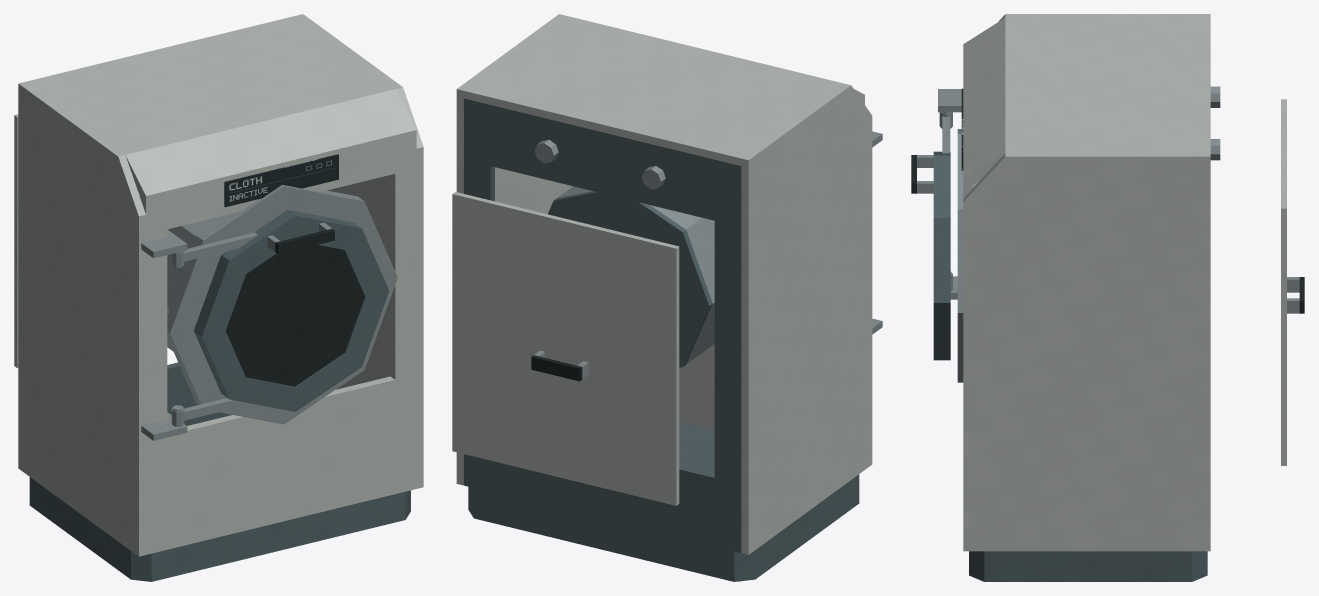
The model's file is AST-HSK-001_service_open.glb.
The picture shows the model from 3 angles, left to right: view 1: azimuth 30°, elevation 25°; view 2: azimuth 150°, elevation 25°; view 3: azimuth 270°, elevation 25°; orthographic projection. The views are drawn at different scales.
Visible parts, largest first — view 1: AST-HSK-001__static__staff_white_paint, AST-HSK-001__LOADING_HATCH_Z__staff_rubber, AST-HSK-001__static__staff_zinc, AST-HSK-001__LOADING_HATCH_Z__staff_bluegrey_paint, AST-HSK-001__static__staff_bluegrey_paint, AST-HSK-001__static__cloth_controls, AST-HSK-001__LOADING_HATCH_Z__staff_zinc, AST-HSK-001__REAR_SERVICE_COVER__staff_white_paint; view 2: AST-HSK-001__static__staff_white_paint, AST-HSK-001__REAR_SERVICE_COVER__staff_white_paint, AST-HSK-001__static__staff_bluegrey_paint, AST-HSK-001__static__staff_zinc, AST-HSK-001__REAR_SERVICE_COVER__staff_rubber; view 3: AST-HSK-001__static__staff_white_paint, AST-HSK-001__static__staff_bluegrey_paint, AST-HSK-001__LOADING_HATCH_Z__staff_bluegrey_paint, AST-HSK-001__static__staff_zinc, AST-HSK-001__REAR_SERVICE_COVER__staff_white_paint, AST-HSK-001__LOADING_HATCH_Z__staff_zinc.
Part boxes in pixels (x1=…): AST-HSK-001__static__staff_white_paint: x1=18, y1=14, x2=423, y2=556; AST-HSK-001__LOADING_HATCH_Z__staff_rubber: x1=226, y1=228, x2=364, y2=386; AST-HSK-001__static__staff_zinc: x1=138, y1=185, x2=397, y2=440; AST-HSK-001__LOADING_HATCH_Z__staff_bluegrey_paint: x1=194, y1=210, x2=389, y2=411; AST-HSK-001__static__staff_bluegrey_paint: x1=29, y1=362, x2=410, y2=581; AST-HSK-001__static__cloth_controls: x1=224, y1=154, x2=338, y2=207; AST-HSK-001__LOADING_HATCH_Z__staff_zinc: x1=171, y1=222, x2=331, y2=426; AST-HSK-001__REAR_SERVICE_COVER__staff_white_paint: x1=14, y1=114, x2=18, y2=367; AST-HSK-001__static__staff_white_paint: x1=456, y1=14, x2=872, y2=554; AST-HSK-001__REAR_SERVICE_COVER__staff_white_paint: x1=452, y1=192, x2=679, y2=505; AST-HSK-001__static__staff_bluegrey_paint: x1=464, y1=98, x2=859, y2=581; AST-HSK-001__static__staff_zinc: x1=534, y1=131, x2=882, y2=364; AST-HSK-001__REAR_SERVICE_COVER__staff_rubber: x1=531, y1=355, x2=582, y2=381; AST-HSK-001__static__staff_white_paint: x1=963, y1=14, x2=1210, y2=551; AST-HSK-001__static__staff_bluegrey_paint: x1=969, y1=551, x2=1207, y2=581; AST-HSK-001__LOADING_HATCH_Z__staff_bluegrey_paint: x1=933, y1=151, x2=950, y2=360; AST-HSK-001__static__staff_zinc: x1=938, y1=86, x2=1220, y2=382; AST-HSK-001__REAR_SERVICE_COVER__staff_white_paint: x1=1281, y1=99, x2=1286, y2=465; AST-HSK-001__LOADING_HATCH_Z__staff_zinc: x1=917, y1=112, x2=952, y2=290.
Bounding box in the file's own units: 1.2 × 1.7 × 1.4.
Materials: 5 (5 with a texture image).
